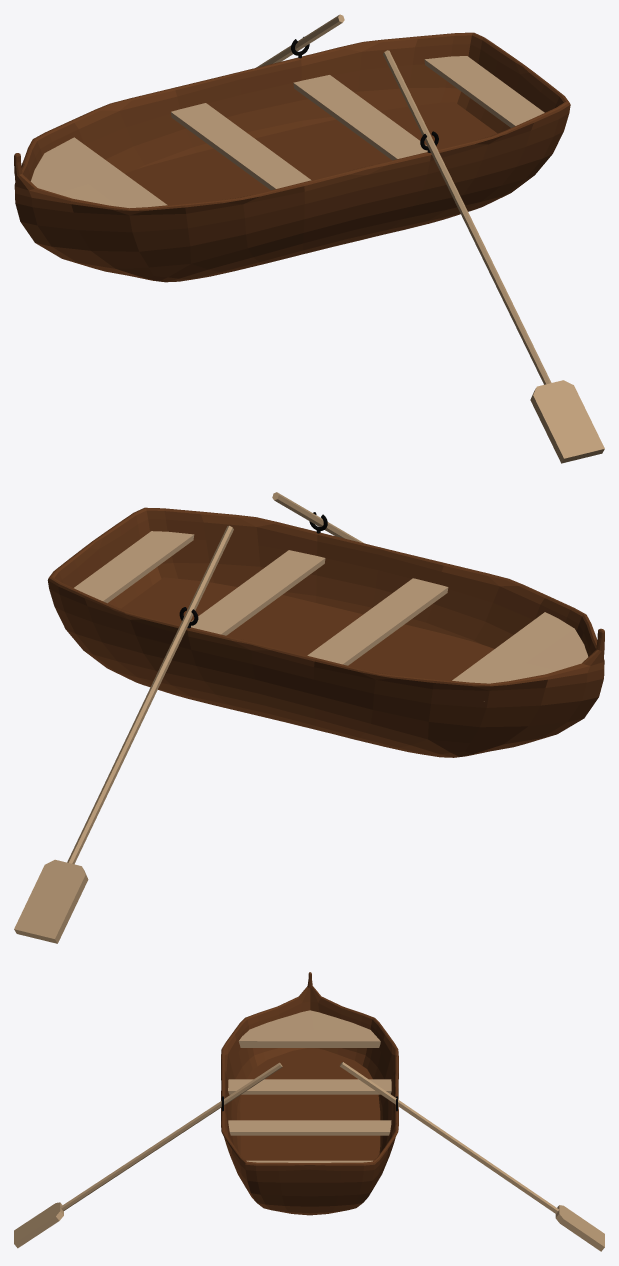
File: wooden_boat.glb
The picture shows the model from 3 angles, top to bottom: view 1: azimuth 30°, elevation 25°; view 2: azimuth 150°, elevation 25°; view 3: azimuth 270°, elevation 25°; orthographic projection. The views are drawn at different scales.
Parts seen in each view (by area): view 1: Sphere, Cube.004, Cylinder.001, Cube.002, Cube.001, Cube, Cube.003, Cylinder.003; view 2: Sphere, Cube.004, Cylinder.003, Cube.002, Cube.001, Cube, Cube.003, Cylinder.001; view 3: Sphere, Cube.004, Cube.002, Cylinder.001, Cylinder.003, Cube, Cube.001.
Part boxes in pixels (x1,y1,x2,y2): Sphere: (14, 32, 570, 282); Cube.004: (124, 102, 497, 205); Cylinder.001: (383, 50, 604, 463); Cube.002: (30, 137, 167, 208); Cube.001: (171, 103, 311, 190); Cube: (293, 75, 427, 160); Cube.003: (424, 56, 544, 127); Cylinder.003: (256, 14, 344, 67); Sphere: (47, 507, 604, 757); Cube.004: (121, 577, 494, 680); Cylinder.003: (14, 525, 233, 943); Cube.002: (452, 612, 588, 701); Cube.001: (307, 578, 448, 665); Cube: (191, 550, 325, 635); Cube.003: (74, 531, 194, 603); Cylinder.001: (272, 492, 363, 543); Sphere: (221, 972, 398, 1215); Cube.004: (240, 1048, 380, 1160); Cube.002: (238, 1010, 380, 1047); Cylinder.001: (14, 1062, 282, 1248); Cylinder.003: (340, 1062, 604, 1251); Cube: (228, 1120, 391, 1135); Cube.001: (228, 1079, 391, 1094).
Bounding box in the file's own units: 2.84 × 1.44 × 4.21.
